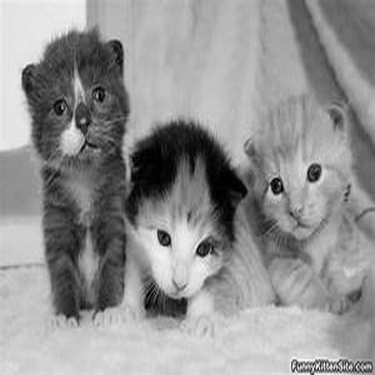cat: (18, 27, 137, 329), (239, 87, 374, 319), (111, 115, 252, 336)
